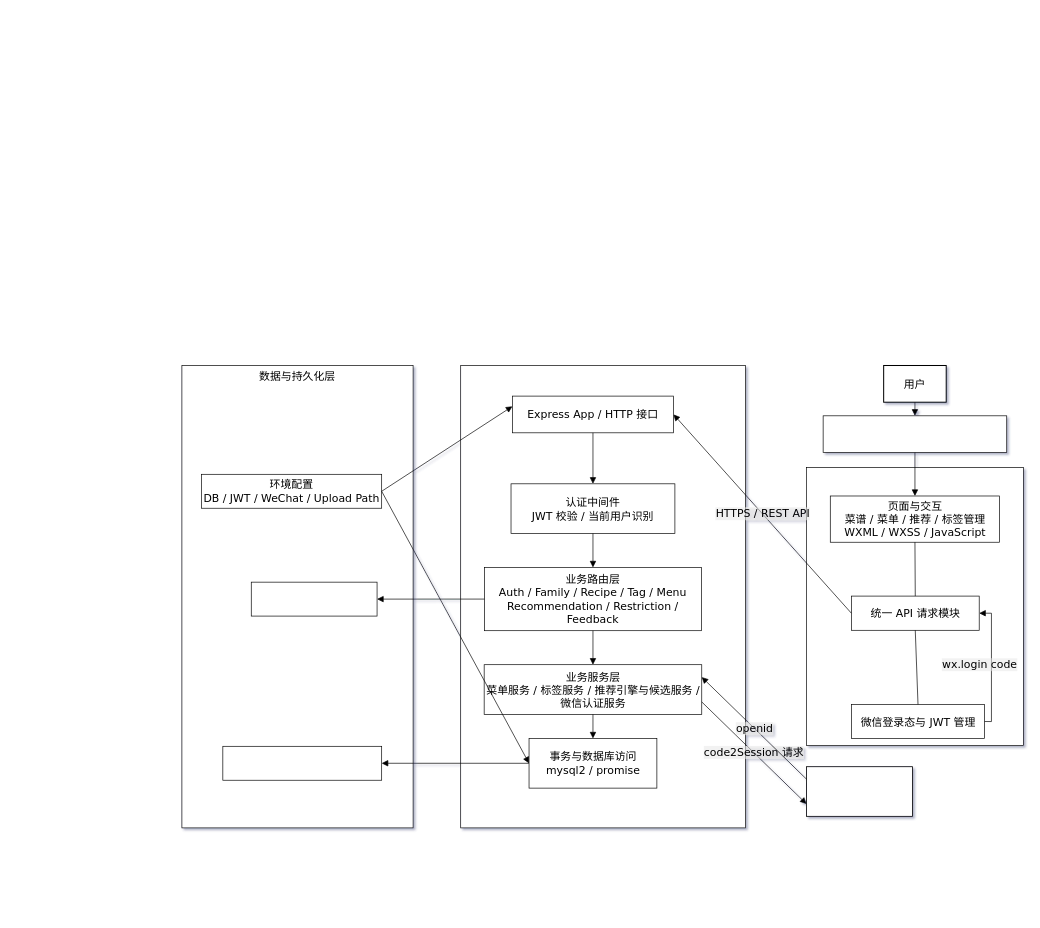
This 1040x928 diagram has some shape labels left out. The shapes that lost their labels are listed below. From the top down, each one's box as (x1, y1, x2, y2) in pixels, then its label:
(822, 415, 1007, 453): 微信客户端 / 小程序运行环境
(251, 581, 377, 616): Uploads 文件目录 菜谱封面图片
(460, 365, 746, 828): 服务端层：Node.js + Express
(806, 467, 1023, 746): 客户端层：微信小程序
(222, 746, 382, 780): MySQL 8.0+ User / Family / Recipe / Tag / Menu / Recommendation 约束、索引与事务
(806, 766, 913, 816): 微信开放能力 code2Session
